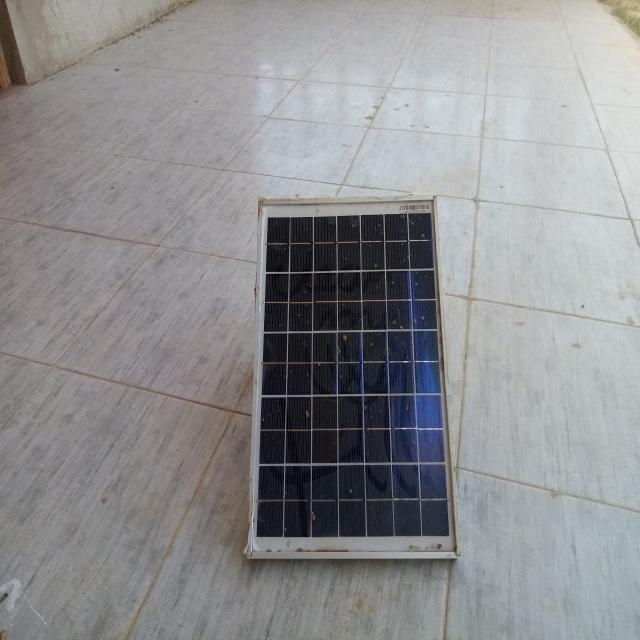faulty: (248, 197, 460, 555)
